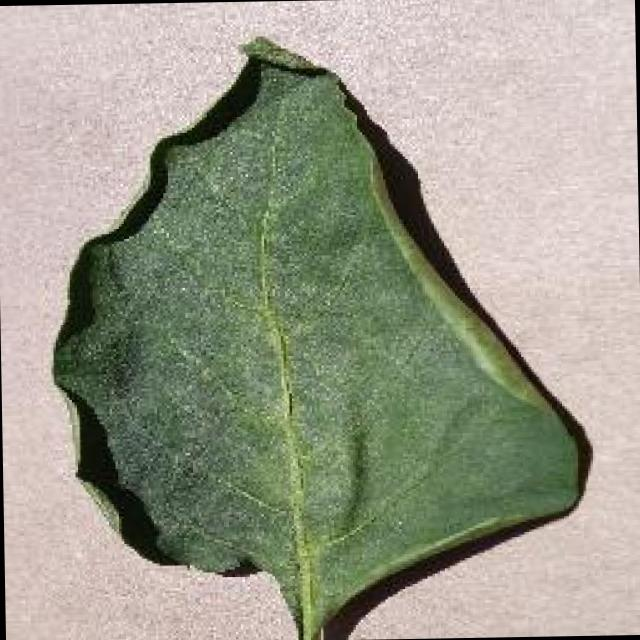Chilli_Healthy: (43, 28, 596, 640)
